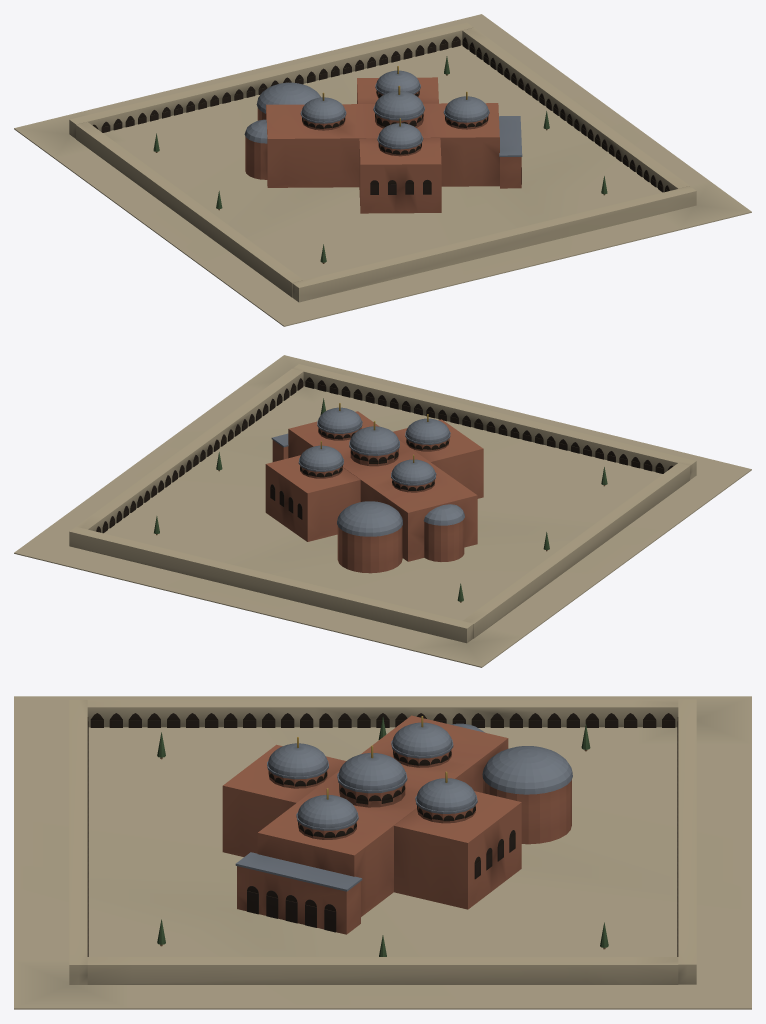
File: holy-apostles.glb
3 renders of one model, top to bottom at view 1: azimuth 30°, elevation 25°; view 2: azimuth 150°, elevation 25°; view 3: azimuth 270°, elevation 25°, orthographic. The views are drawn at different scales.
Parts seen in each view (by area): view 1: p0_precinct, p1_church; view 2: p0_precinct, p1_church; view 3: p0_precinct, p1_church, p2_garden.
Boxes of the visible parts, x1,y1,x2,y2 form: p0_precinct: (14,14,751,326); p1_church: (244,66,522,213); p0_precinct: (14,355,751,667); p1_church: (265,403,483,573); p0_precinct: (14,696,751,1009); p1_church: (222,715,572,934); p2_garden: (157,717,608,956).
Size of the model in its own units: 200 by 34.63 by 200.
